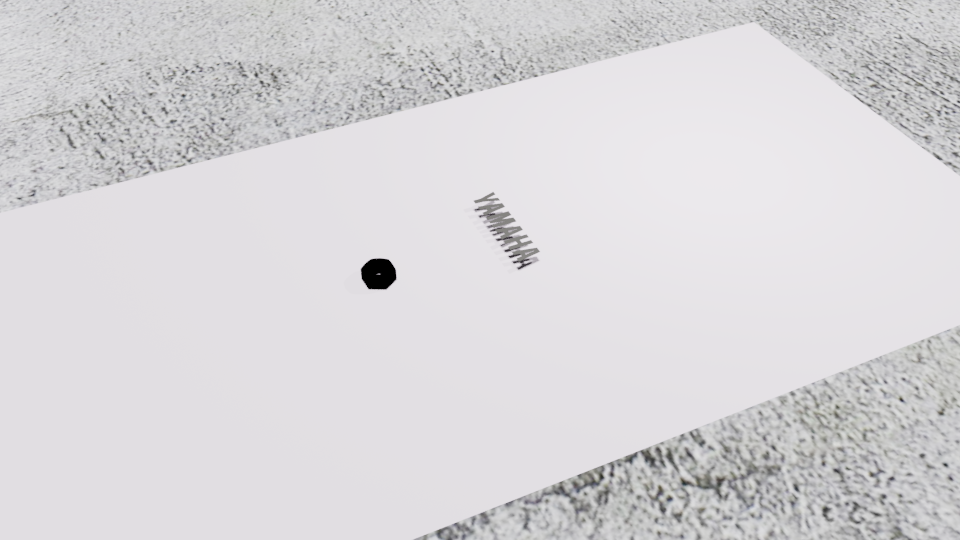yamaha_letters: (472, 191, 540, 262)
